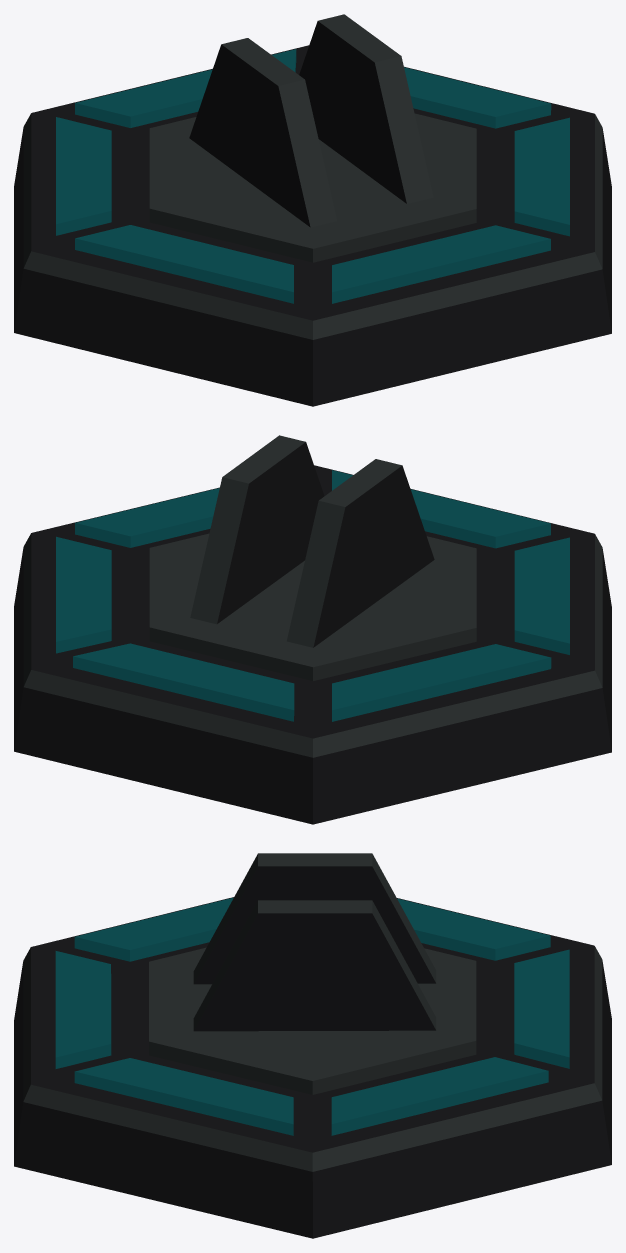
File: Base_Lever.glb
The picture shows the model from 3 angles, top to bottom: view 1: azimuth 30°, elevation 25°; view 2: azimuth 150°, elevation 25°; view 3: azimuth 270°, elevation 25°; orthographic projection.
Visible parts, largest first — view 1: Base_Lever; view 2: Base_Lever; view 3: Base_Lever.
Part boxes in pixels (x1,y1,x2,y2): Base_Lever: [14, 14, 611, 406]; Base_Lever: [14, 435, 611, 824]; Base_Lever: [14, 853, 611, 1238].
Size of what is drawn, in the model's own units: 1.02 by 0.3408 by 0.8795.
2 materials, 2 textured.
